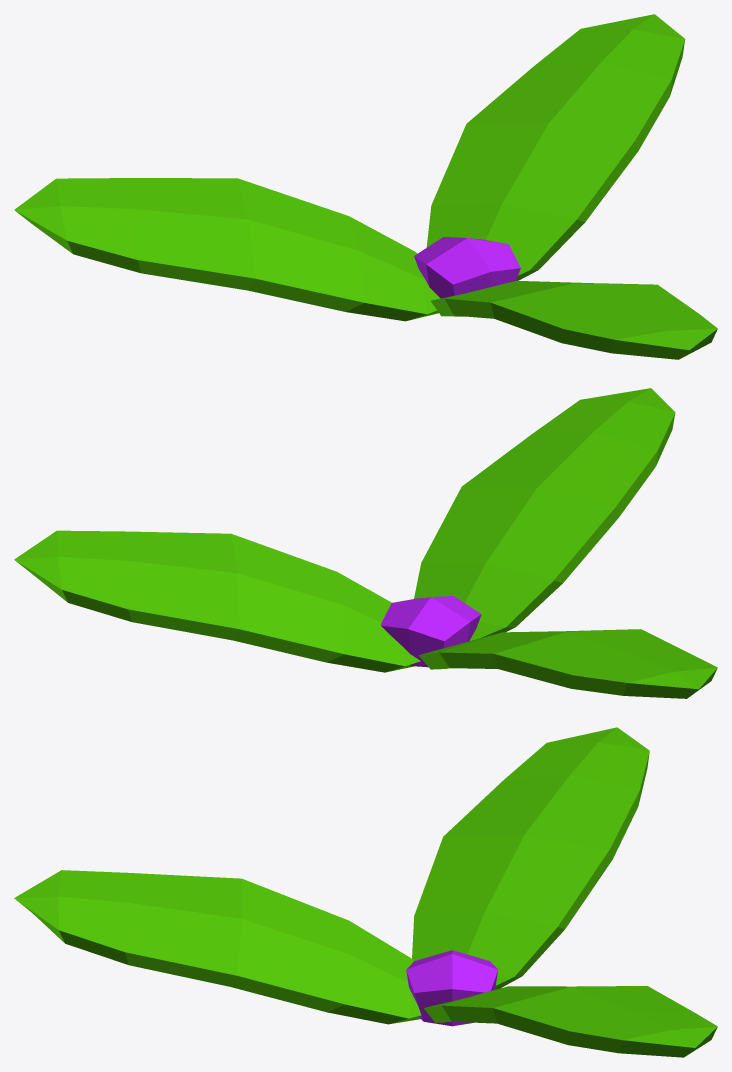
The model's file is Flower5.fbx.
The picture shows the model from 3 angles, top to bottom: view 1: azimuth 30°, elevation 25°; view 2: azimuth 150°, elevation 25°; view 3: azimuth 270°, elevation 25°; orthographic projection. The views are drawn at different scales.
Parts seen in each view (by area): view 1: Flower5; view 2: Flower5; view 3: Flower5.
Part boxes in pixels (box(x1,y1,x2,y2)): Flower5: box(14, 14, 717, 359); Flower5: box(14, 388, 717, 698); Flower5: box(14, 727, 717, 1057).
Size of the model in its own units: 35.15 by 6.4 by 32.6.
1 material, 1 textured.
